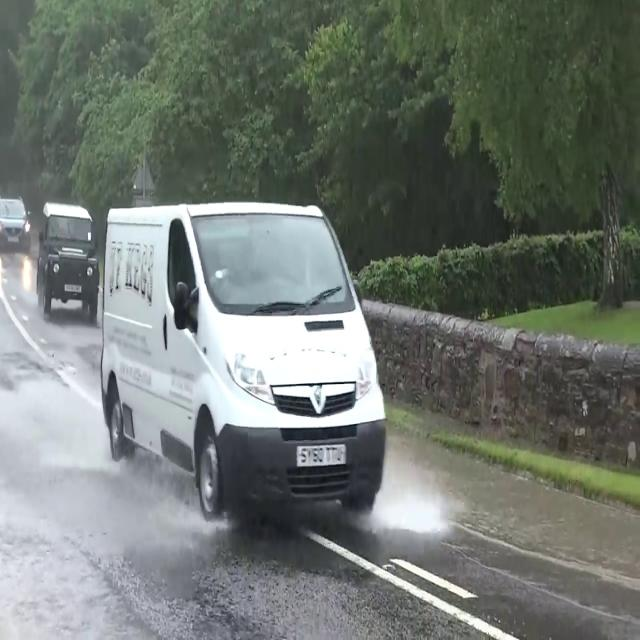license-plate-annotation: (293, 439, 353, 468)
